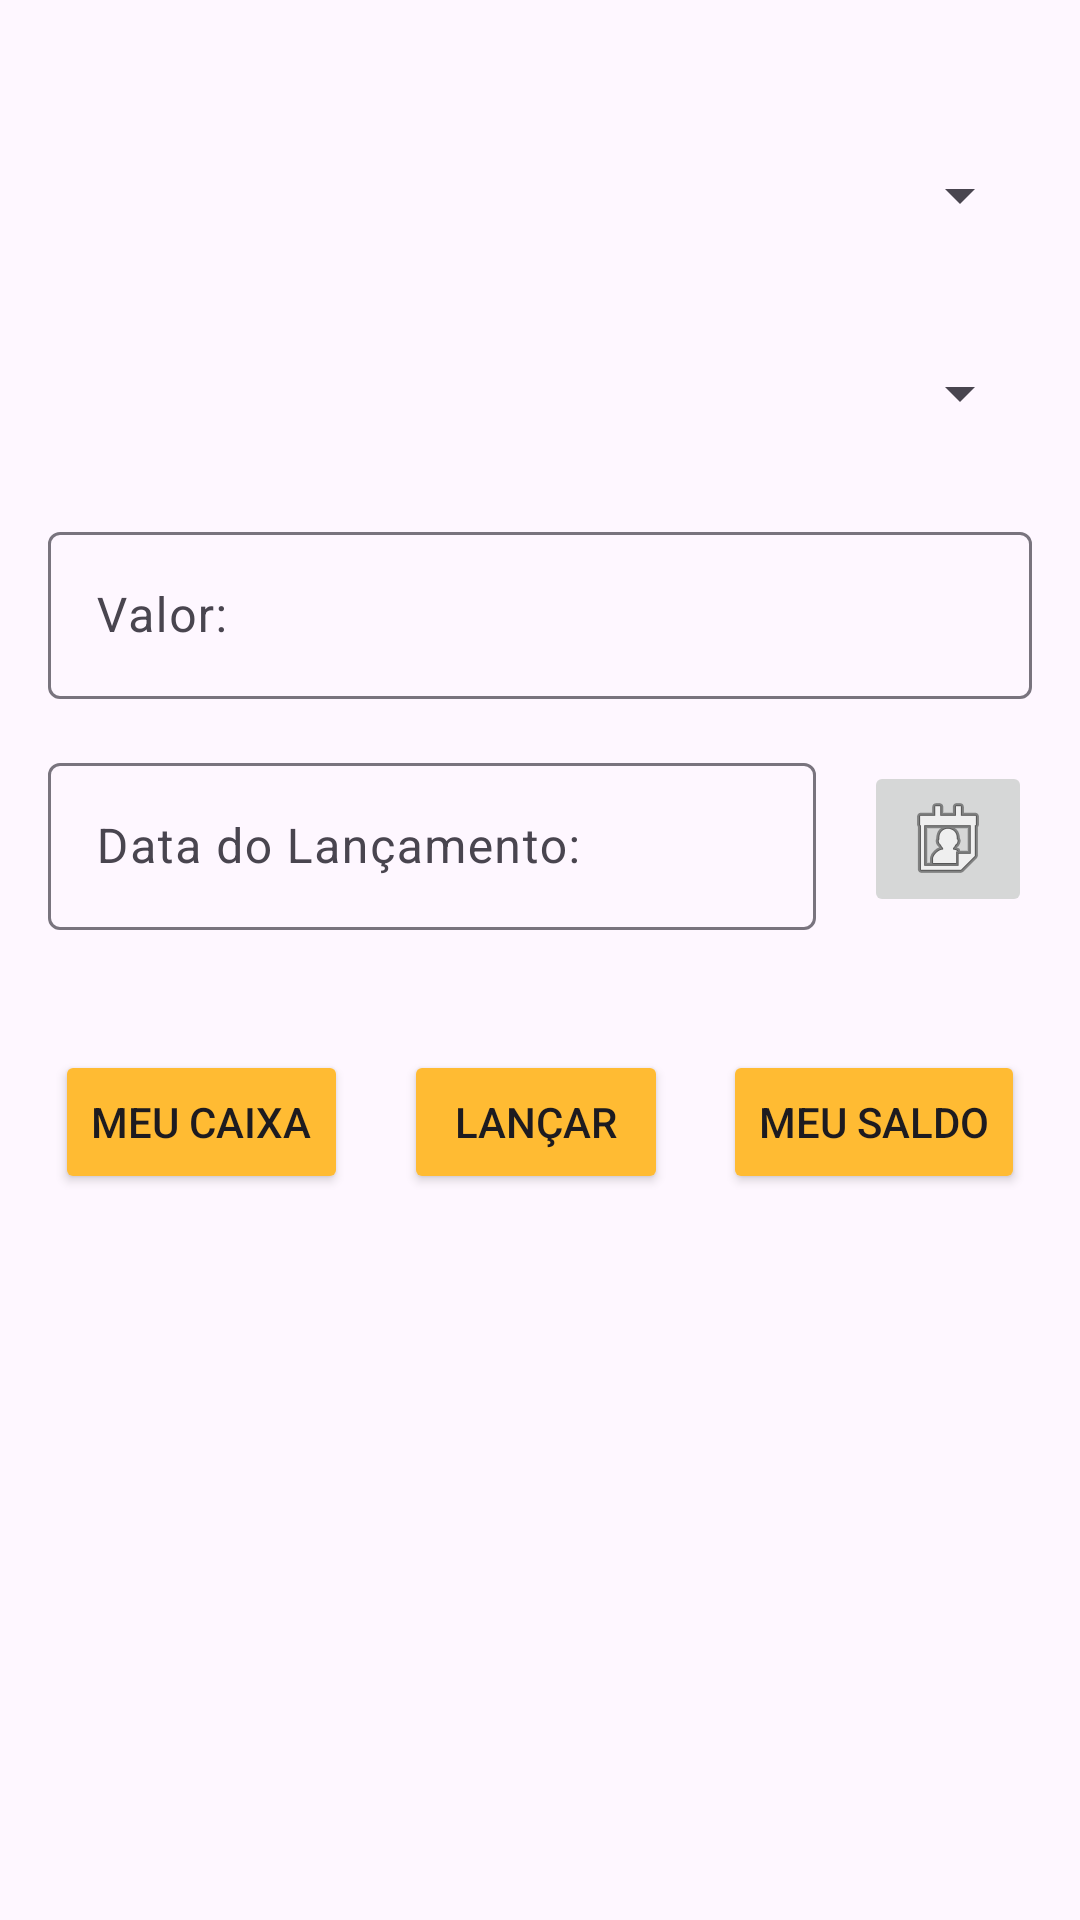

Icon click points for this 1080 × 1920 phone screenshot, format (x,y):
calendar: (948,839)
